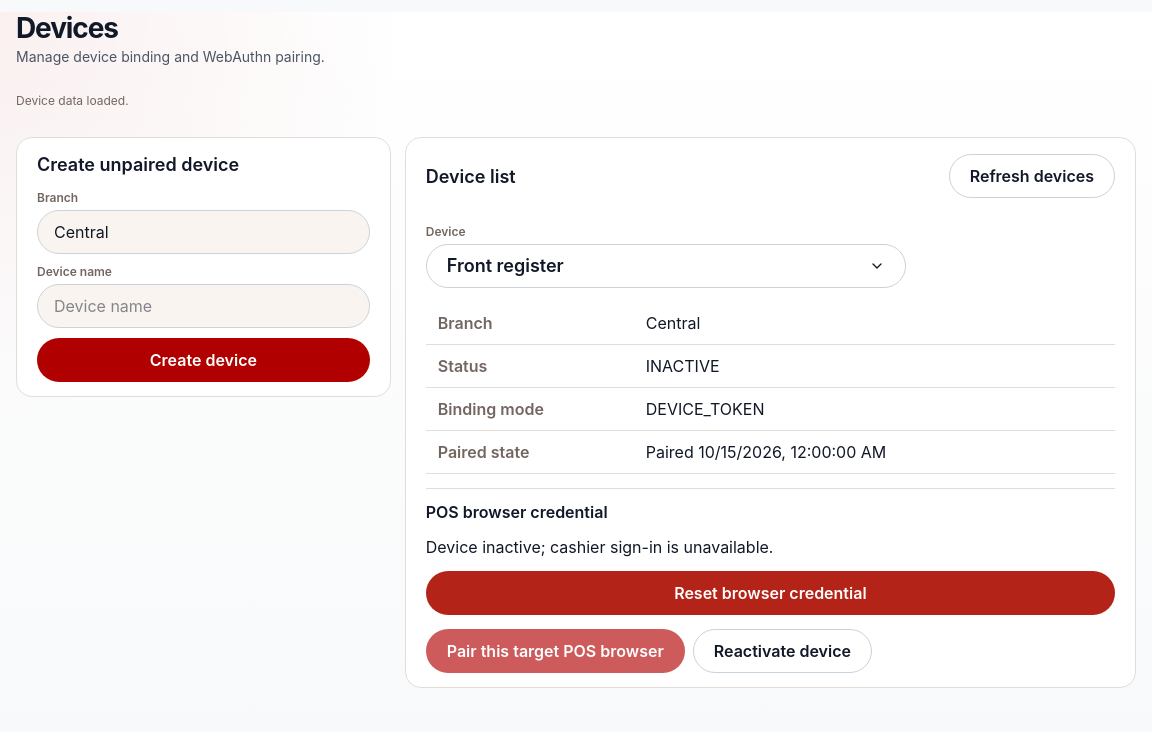
Test: DeviceManagement › shows Pairing required after a token device is reactivated
The image size is (1152, 732).
Click the button "Reactivate device". click: (782, 651)
box: [693,629,872,673]
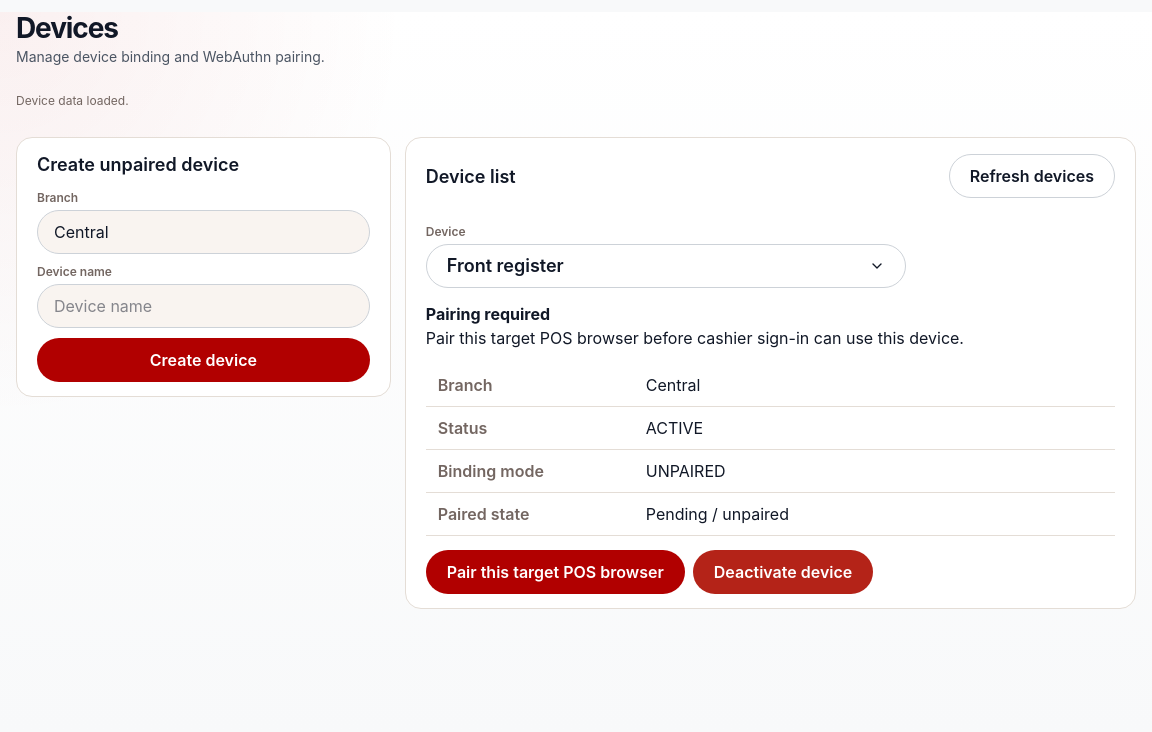
Expected: the message that starts with "Pairing required" is shown, [426,304,550,324]
Expected: the text "UNPAIRED" is shown, [634,450,1115,493]
Expected: the button "Pair this target POS browser" is enabled, [426,550,685,594]
